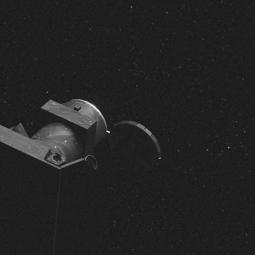cheops: (0, 91, 165, 192)
